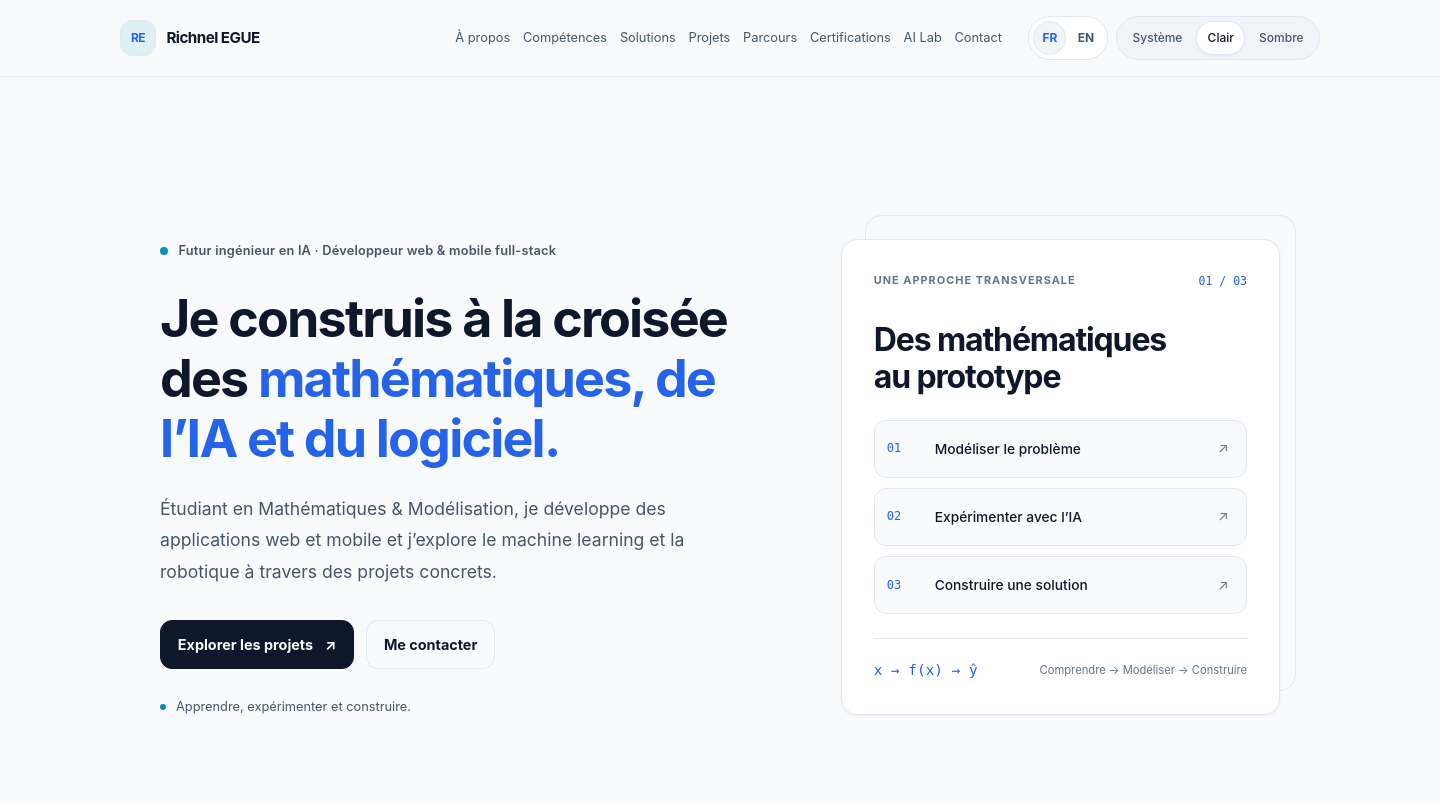
Test: renders the solutions section in French and English
What coordinates should you click on to do the following:
click the button with aria-label "Passer en anglais"
I would click on:
 (1086, 38)
Its box is x1=1069 y1=21 x2=1103 y2=55.
(page scrolled)
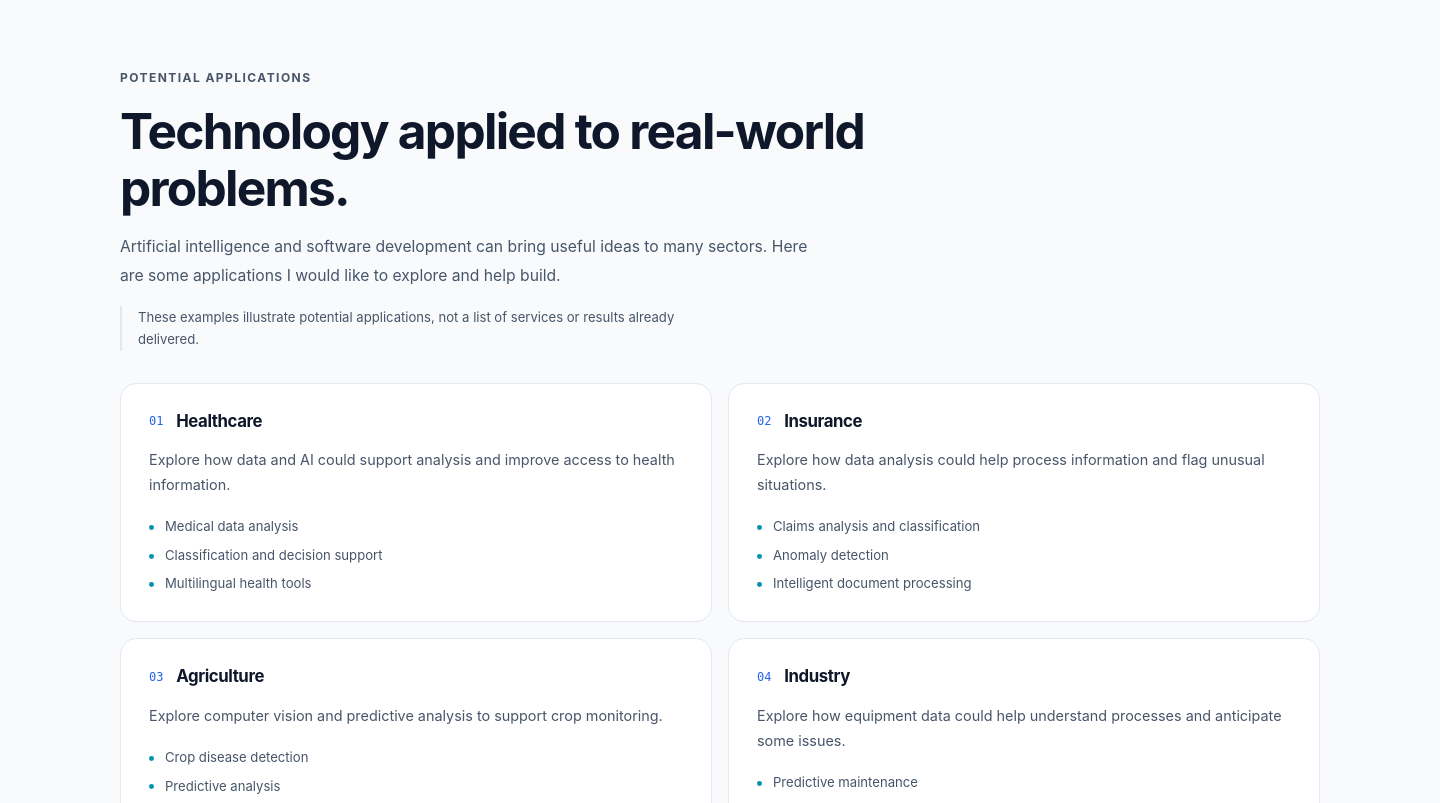
Expected: the heading "Technology applied to real-world problems." is shown, x1=120 y1=103 x2=880 y2=218
Expected: the heading "Healthcare" is shown, x1=176 y1=412 x2=262 y2=431
Expected: the heading "Insurance" is shown, x1=784 y1=412 x2=862 y2=431
